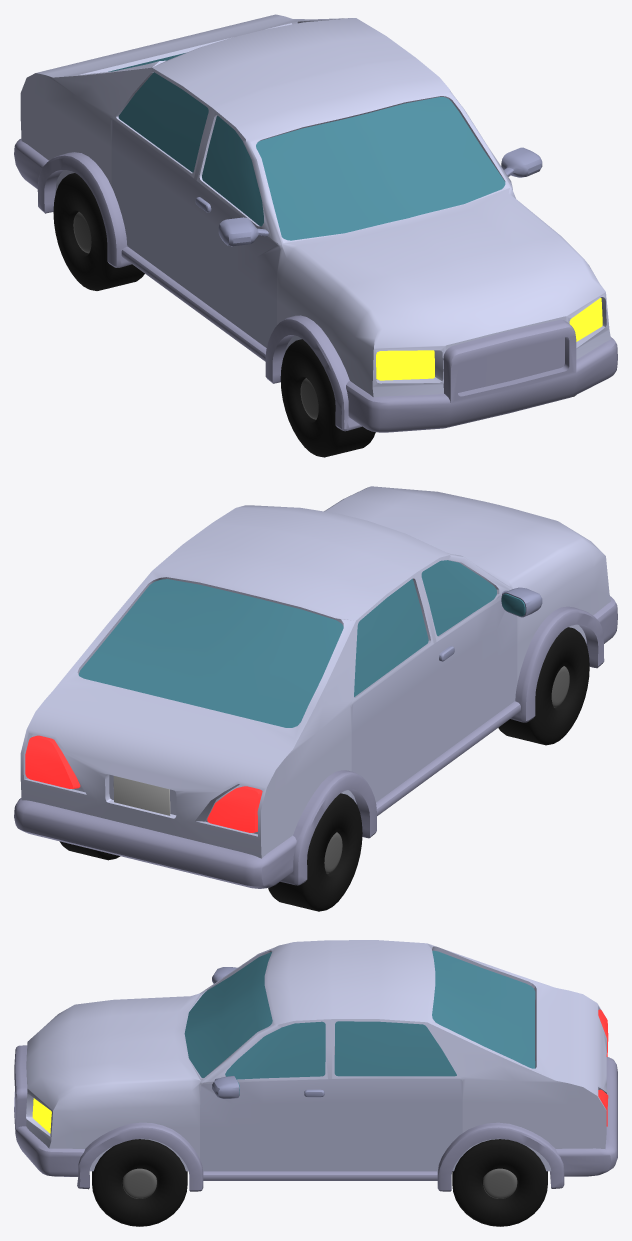
The model's file is Sedan.fbx.
3 renders of one model, top to bottom at view 1: azimuth 30°, elevation 25°; view 2: azimuth 150°, elevation 25°; view 3: azimuth 270°, elevation 25°, orthographic. The views are drawn at different scales.
Visible parts, largest first — view 1: SedanBody, SedanBumper, P_FrontRWheel.001, P_BackRWheel.001; view 2: SedanBody, SedanBumper, P_BackRWheel.001, P_FrontRWheel.001, License Plate; view 3: SedanBody, SedanBumper, P_BackLWheel.001, P_FrontLWheel.001.
Boxes of the visible parts, x1,y1,x2,y2 form: SedanBody: [20, 14, 610, 397]; SedanBumper: [14, 139, 617, 432]; P_FrontRWheel.001: [280, 339, 375, 457]; P_BackRWheel.001: [53, 173, 144, 290]; SedanBody: [20, 486, 610, 858]; SedanBumper: [14, 596, 617, 888]; P_BackRWheel.001: [268, 793, 362, 911]; P_FrontRWheel.001: [498, 627, 589, 745]; License Plate: [113, 776, 170, 815]; SedanBody: [26, 940, 608, 1171]; SedanBumper: [14, 1045, 617, 1191]; P_BackLWheel.001: [452, 1139, 547, 1226]; P_FrontLWheel.001: [92, 1139, 187, 1226].
Size of the model in its own units: 2.76 by 2.17 by 5.77.
Materials: 4 (3 with a texture image).
